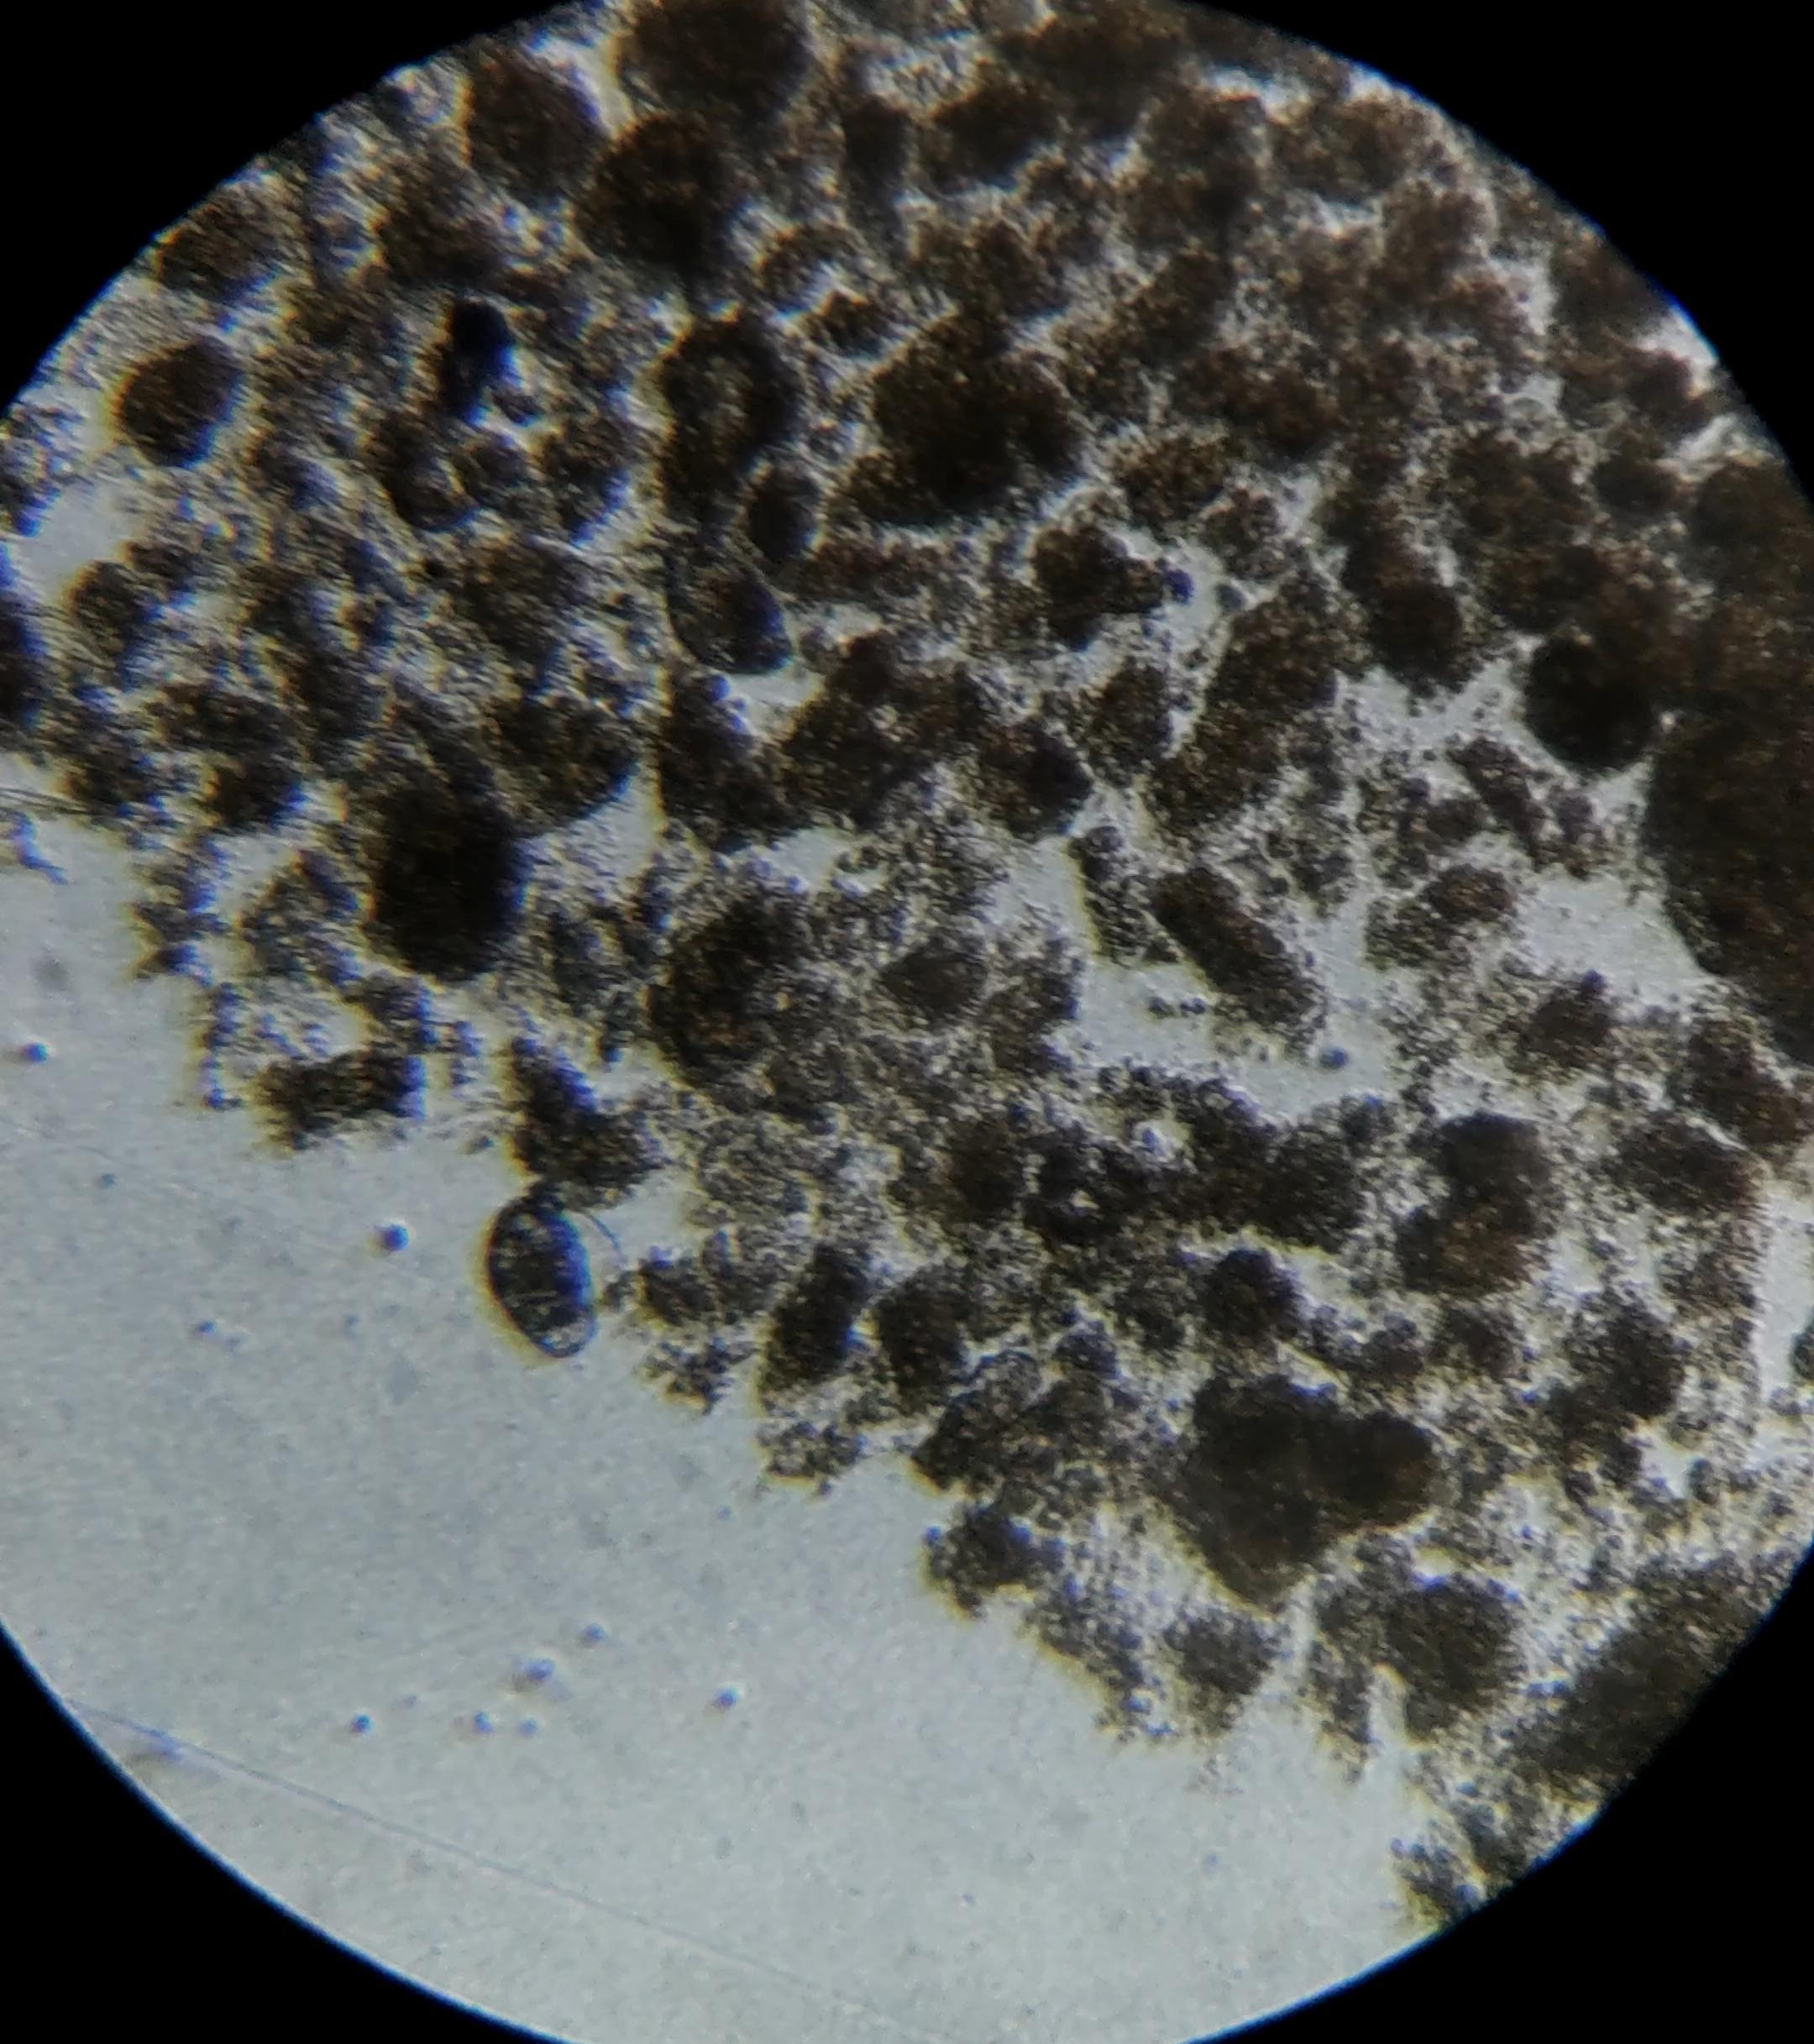Mo: (660, 529, 847, 676), (490, 1182, 625, 1359)
